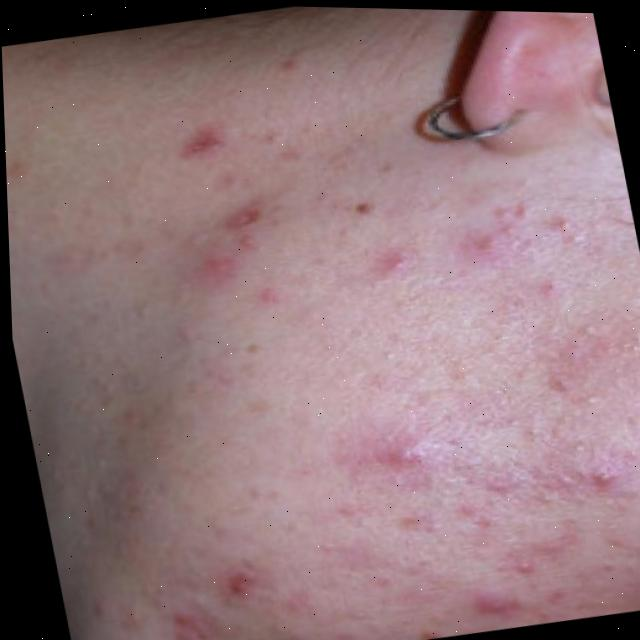Acne: (72, 59, 640, 640)
